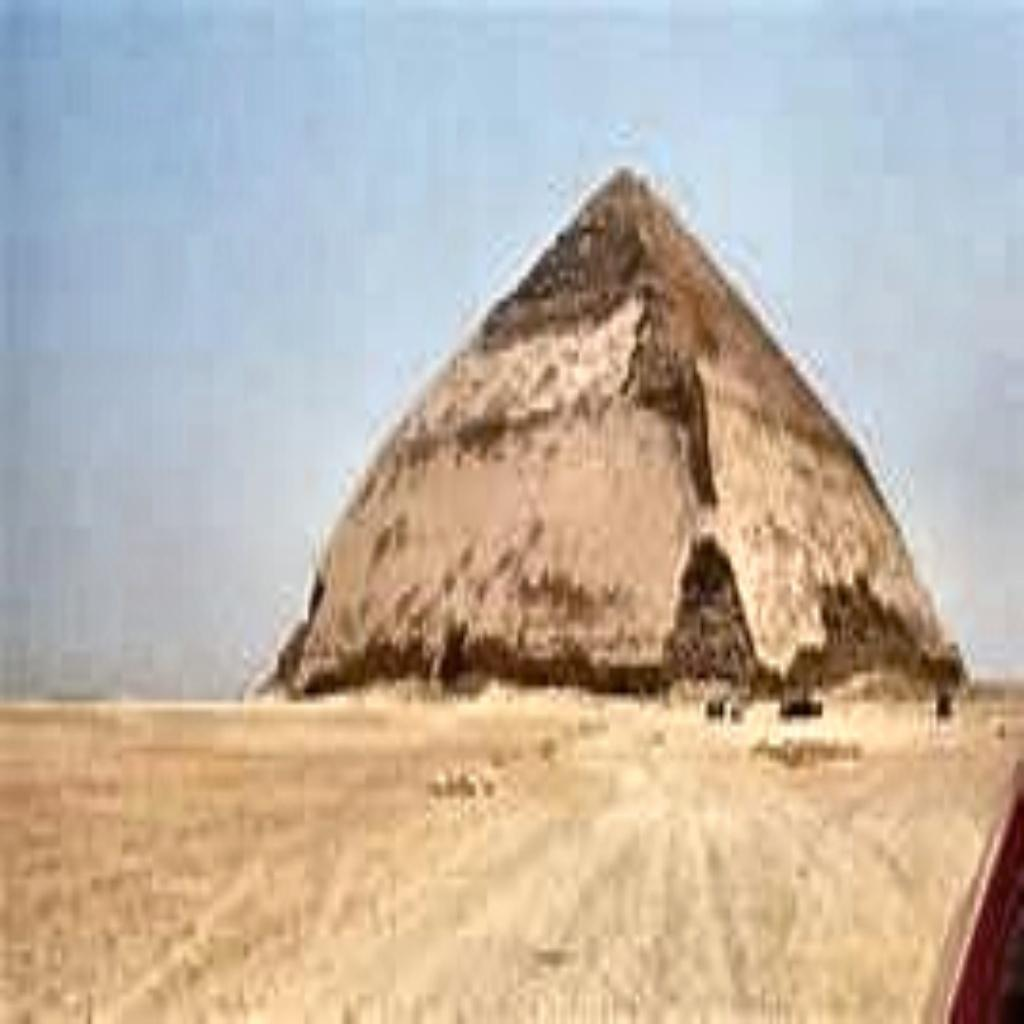Bent Pyramid of King Sneferu: (248, 154, 966, 710)
